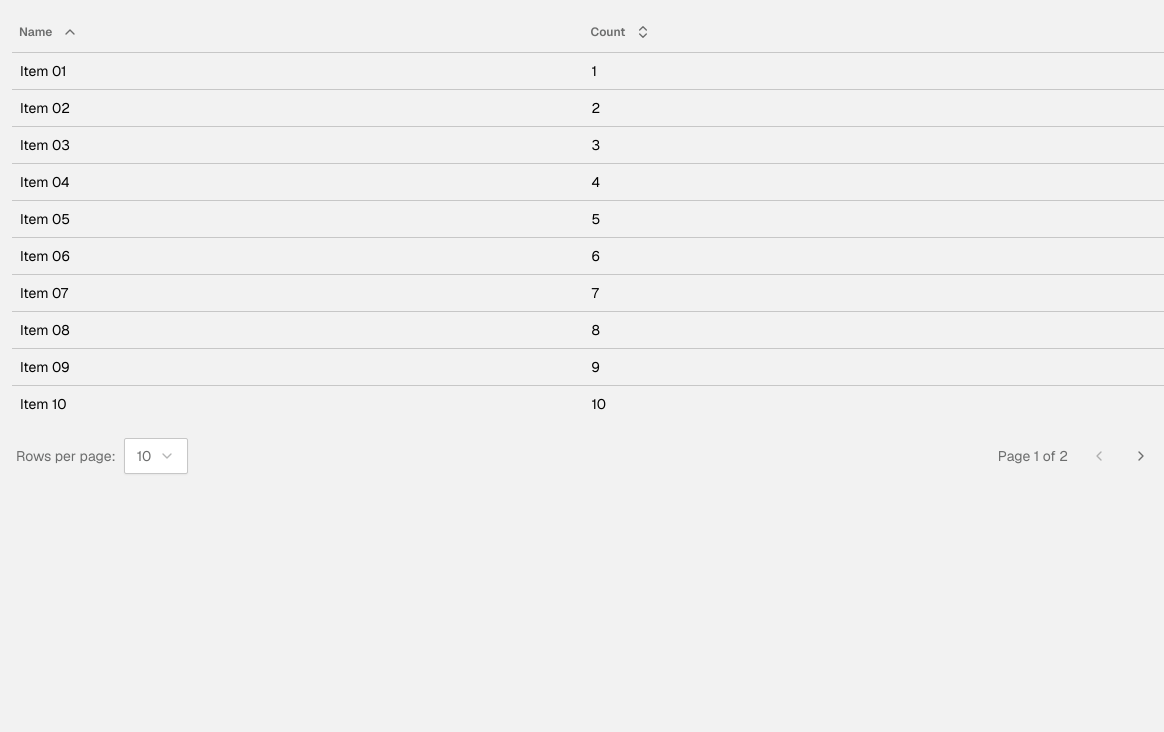
Scenario: changing page size resets to page 1
The width and height of the screenshot is (1164, 732).
Click the button named "next page".
click(1141, 456)  # box [1122,440,1160,472]
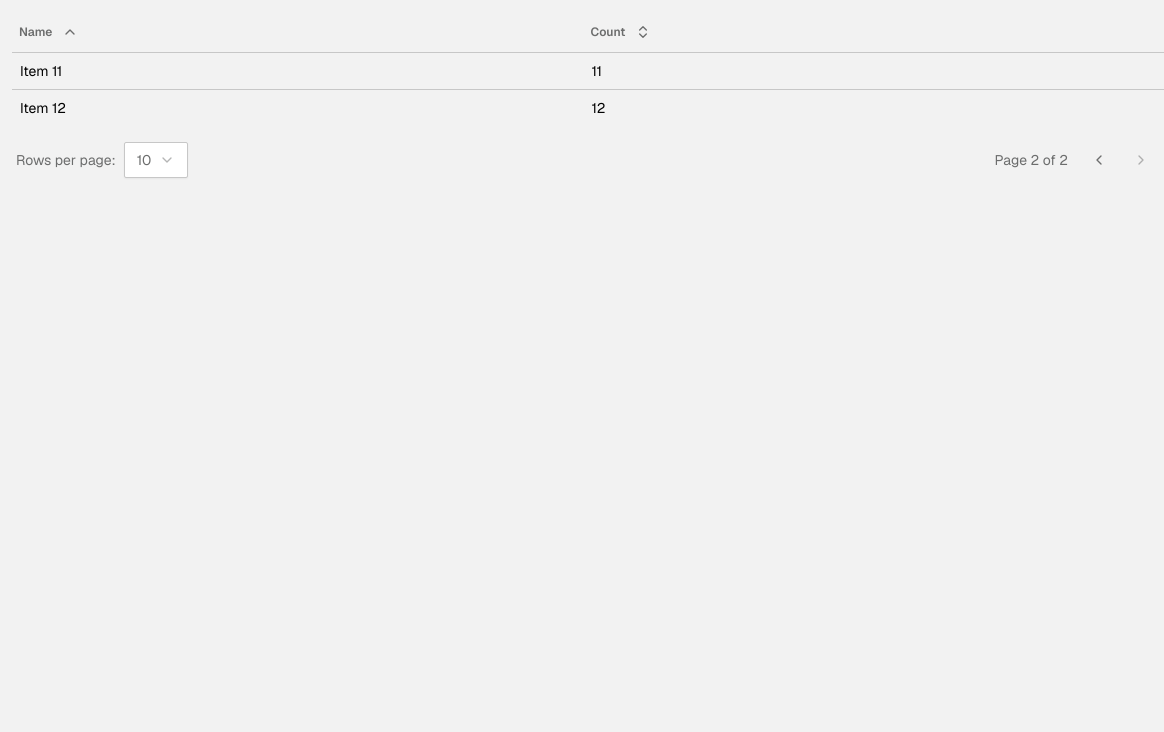
Expected: the text "Page 2 of 2" is shown, [995,150,1068,170]
Click the dropdown named "rows per page".
click(156, 160)  # box [124,142,188,178]
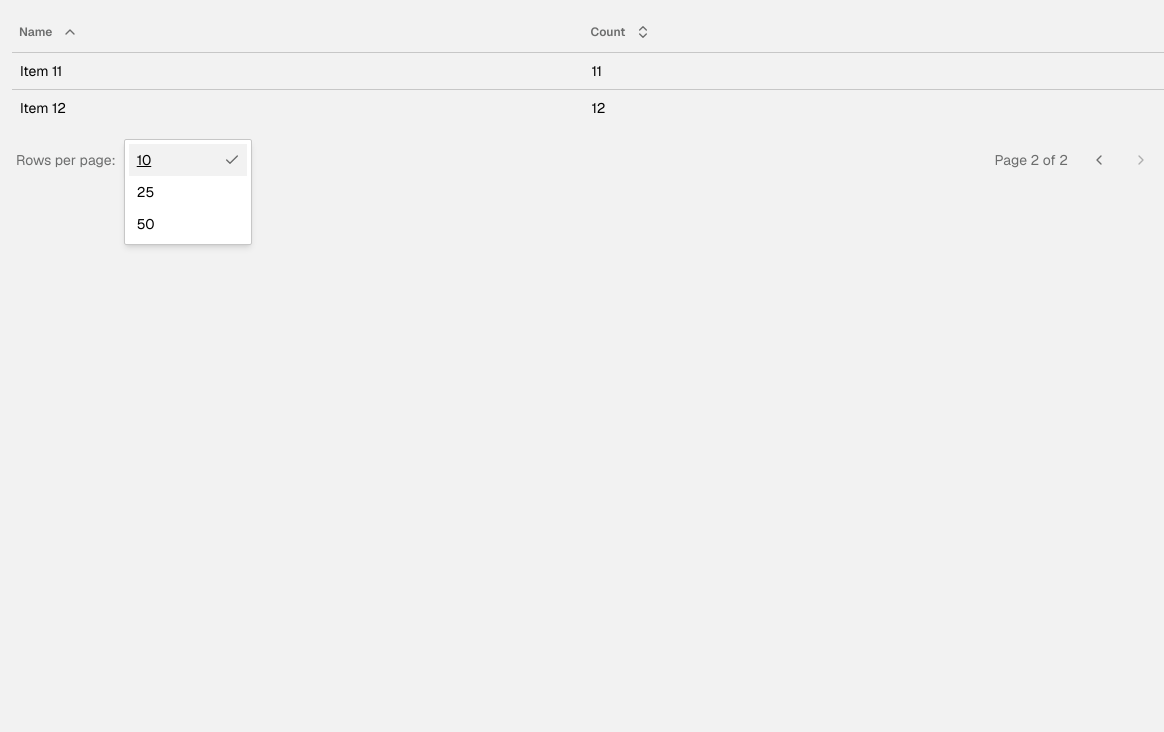
Click the option "25".
click(145, 192)  # box [137,182,154,200]
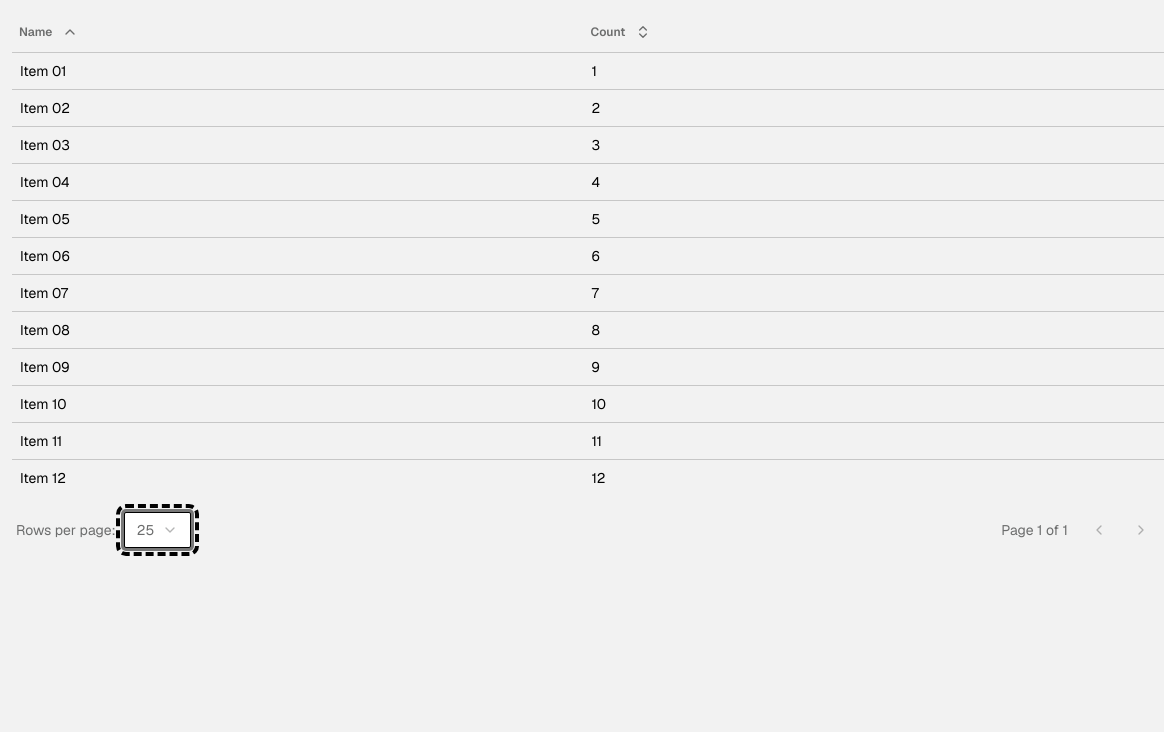
Expected: the text "Page 1 of 1" is shown, [1001,520,1068,540]
